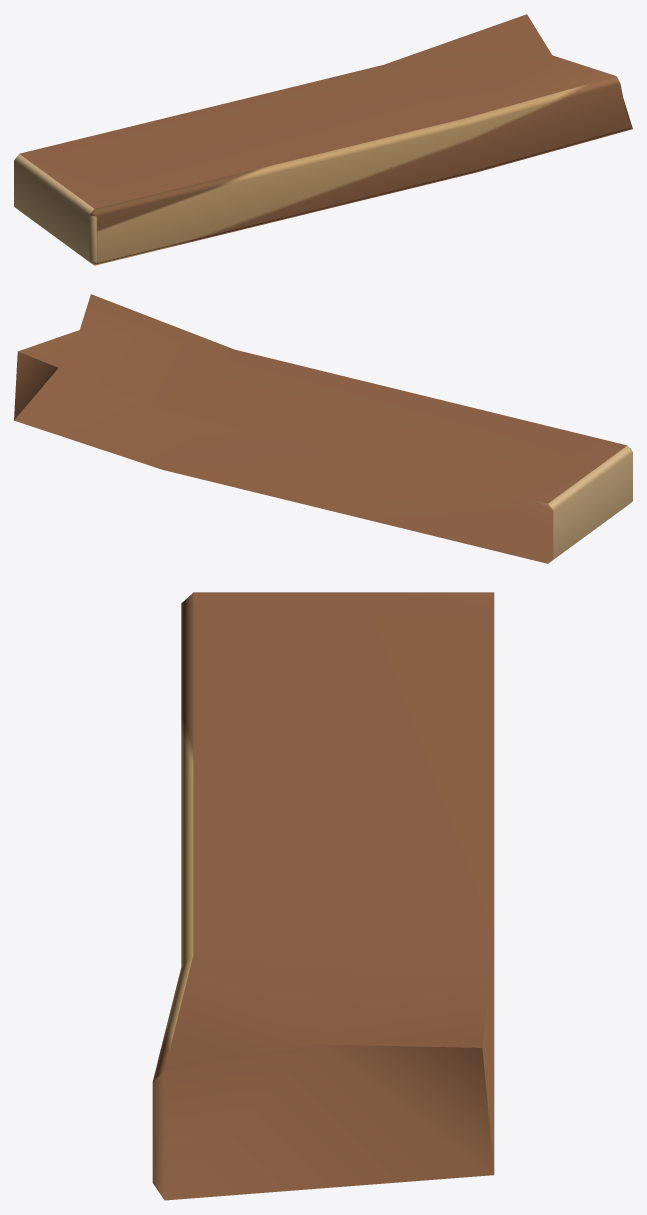
The model's file is DBK_WinBig_Trim_D_End.fbx.
3 views of the same model, one above another, from view 1: azimuth 30°, elevation 25°; view 2: azimuth 150°, elevation 25°; view 3: azimuth 270°, elevation 25° (orthographic). The views are drawn at different scales.
Parts seen in each view (by area): view 1: DBK_WinBig_Trim_D_End; view 2: DBK_WinBig_Trim_D_End; view 3: DBK_WinBig_Trim_D_End.
Boxes of the visible parts, left/top/right/bottom form: DBK_WinBig_Trim_D_End: left=14, top=14, right=632, bottom=265; DBK_WinBig_Trim_D_End: left=14, top=294, right=632, bottom=563; DBK_WinBig_Trim_D_End: left=152, top=592, right=494, bottom=1200.
Size of the model in its own units: 93.06 by 12.54 by 25.68.
